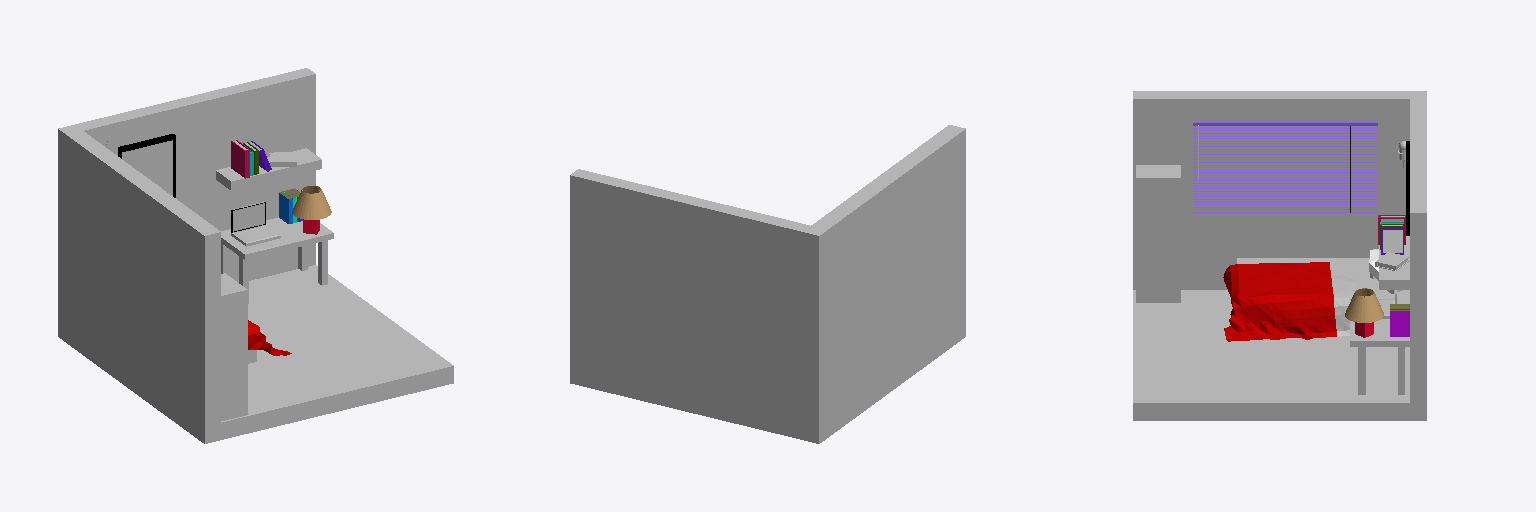
The model's file is Bannn.obj.
The picture shows the model from 3 angles: view 1: azimuth 30°, elevation 25°; view 2: azimuth 150°, elevation 25°; view 3: azimuth 270°, elevation 25°; orthographic projection.
Visible parts, largest first — view 1: Room_Wall_0, Room_Floor_0, Cube.005_Table_0, Table_Table_0, Cube.007_Images_0, Cube.001_Table_0, Lampshade.001_Lampshade.001_material_0, Cube.004_Desktop_0, Plane_ClothB_0, Cube.007_Black_0, Book_BookA_0; view 2: Room_Wall_0; view 3: Room_Wall_0, Room_Floor_0, Room_Windows_0, Plane_ClothB_0, Venetian_slats_Plastic_venetian_material_0, Cube.005_Wardrop_0, Table_Table_0, Cube_Bed_0, Plane_Cloth_0, Lampshade.001_Lampshade.001_material_0, Cube.001_Table_0, VenetianFrame_Plastic_venetian_material_0 (+1 smaller).
Part boxes in pixels (x1,y1,x2,y2): Room_Wall_0: (58,68,315,443); Room_Floor_0: (205,265,453,443); Cube.005_Table_0: (221,273,247,420); Table_Table_0: (221,217,333,303); Cube.007_Images_0: (122,140,172,195); Cube.001_Table_0: (216,148,321,190); Lampshade.001_Lampshade.001_material_0: (292,185,331,219); Cube.004_Desktop_0: (233,203,264,231); Plane_ClothB_0: (248,320,291,355); Cube.007_Black_0: (118,134,175,197); Book_BookA_0: (231,140,249,178); Room_Wall_0: (570,125,965,443); Room_Wall_0: (1133,91,1426,402); Room_Floor_0: (1133,290,1426,420); Room_Windows_0: (1185,120,1359,219); Plane_ClothB_0: (1223,262,1336,341); Venetian_slats_Plastic_venetian_material_0: (1193,128,1377,209); Cube.005_Wardrop_0: (1136,178,1180,302); Table_Table_0: (1350,298,1409,394); Cube_Bed_0: (1237,258,1406,297); Plane_Cloth_0: (1330,262,1355,336); Lampshade.001_Lampshade.001_material_0: (1345,288,1383,322); Cube.001_Table_0: (1379,236,1409,289); VenetianFrame_Plastic_venetian_material_0: (1193,122,1377,125).
Size of the model in its own units: 7.84 by 6.25 by 7.98.